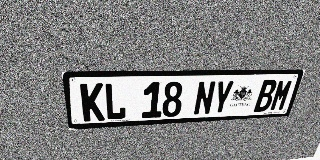1: (142, 82, 164, 118)
8: (162, 81, 184, 117)
B: (253, 79, 278, 112)
K: (80, 83, 105, 122)
L: (104, 82, 126, 120)
M: (269, 79, 294, 111)
N: (193, 81, 216, 115)
Y: (211, 80, 235, 114)
